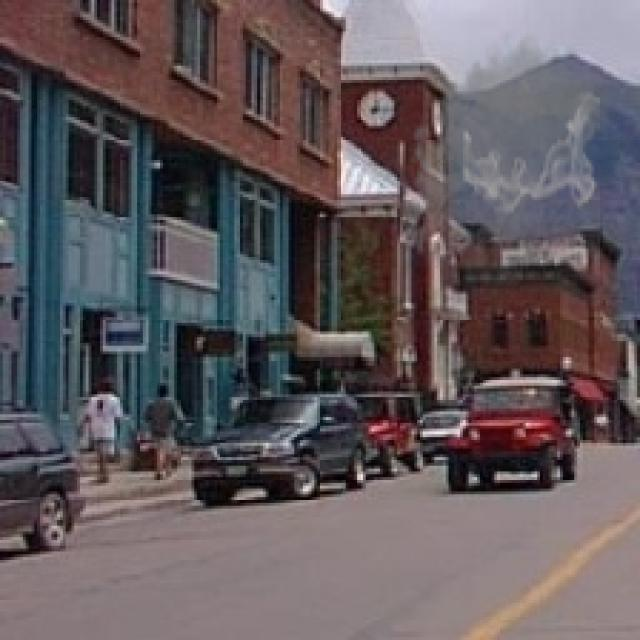smoke: (400, 23, 603, 286)
